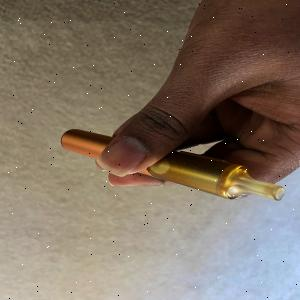Golden-E-Ciggirate: (55, 120, 286, 215)
